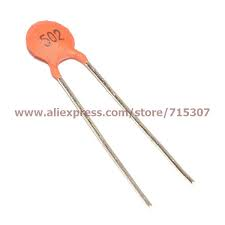ceramic capacitor: (14, 16, 114, 98)
